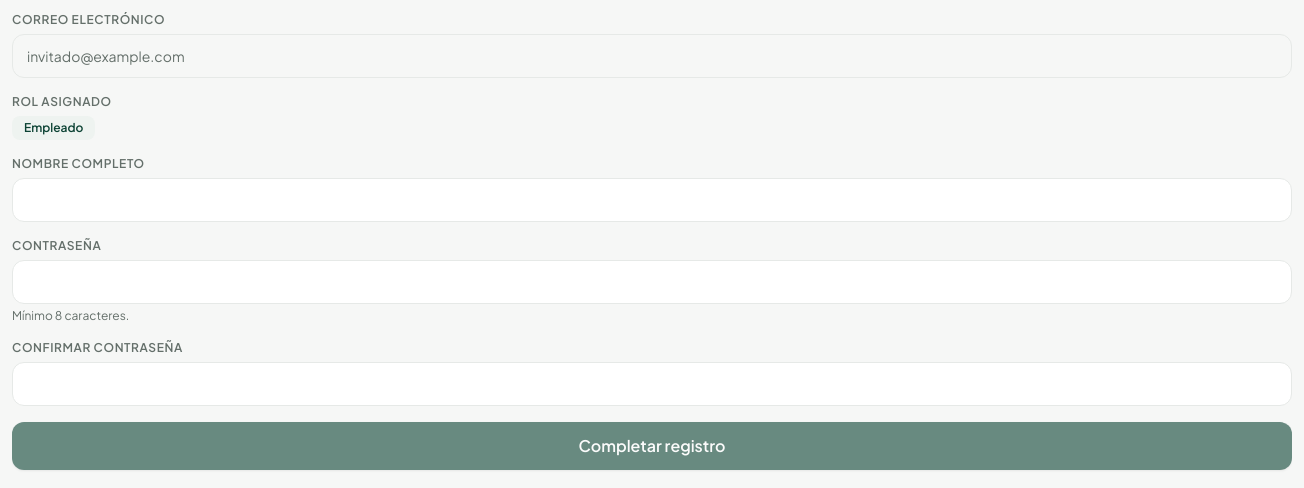
Test case: HU29: M5.2 - RegisterForm › registro exitoso › envía name.trim() a registerSession, limpia contraseñas y redirige a /documentos
The image size is (1304, 488).
Type "   Ada Lovelace   " into the field labelled "Nombre completo" at {"x": 652, "y": 200}, box left=12, top=178, right=1292, bottom=222
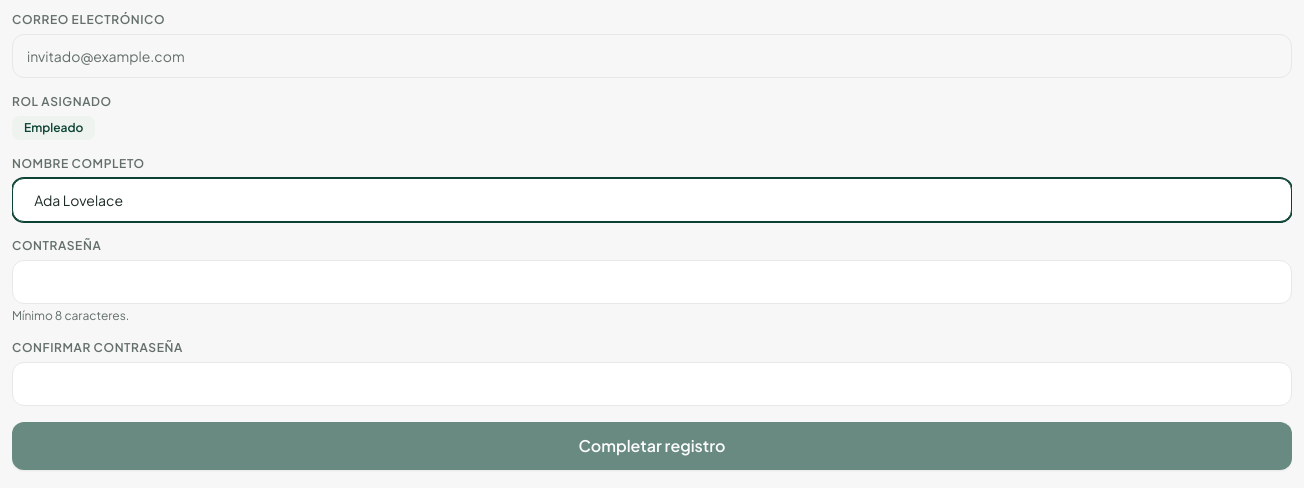
Type "clave-segura-123" into the password field labelled "Contraseña" at {"x": 652, "y": 282}, box left=12, top=260, right=1292, bottom=304
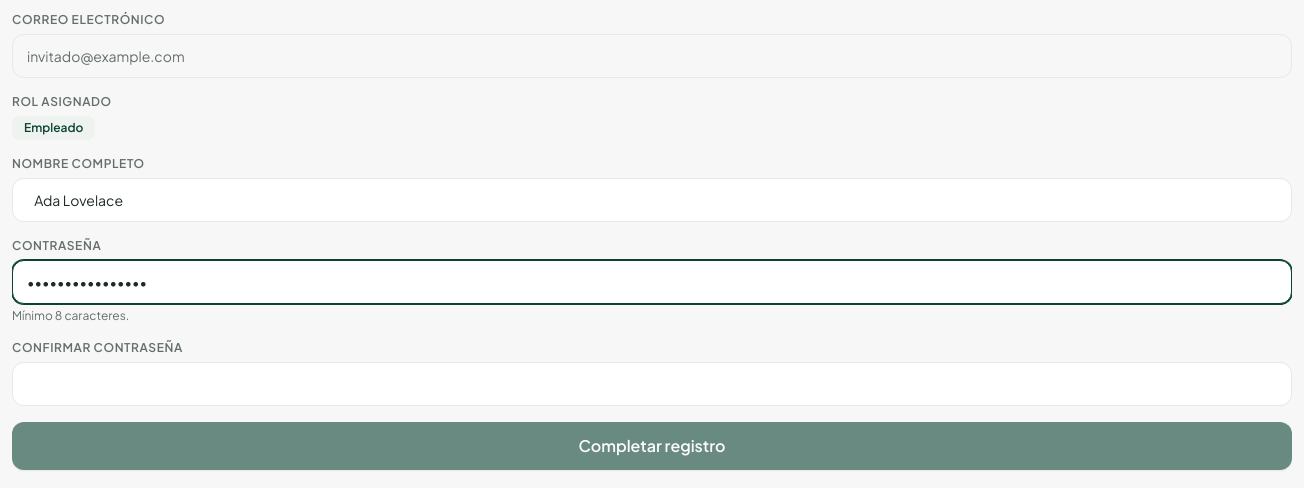
Type "clave-segura-123" into the password field labelled "Confirmar contraseña" at {"x": 652, "y": 384}, box left=12, top=362, right=1292, bottom=406
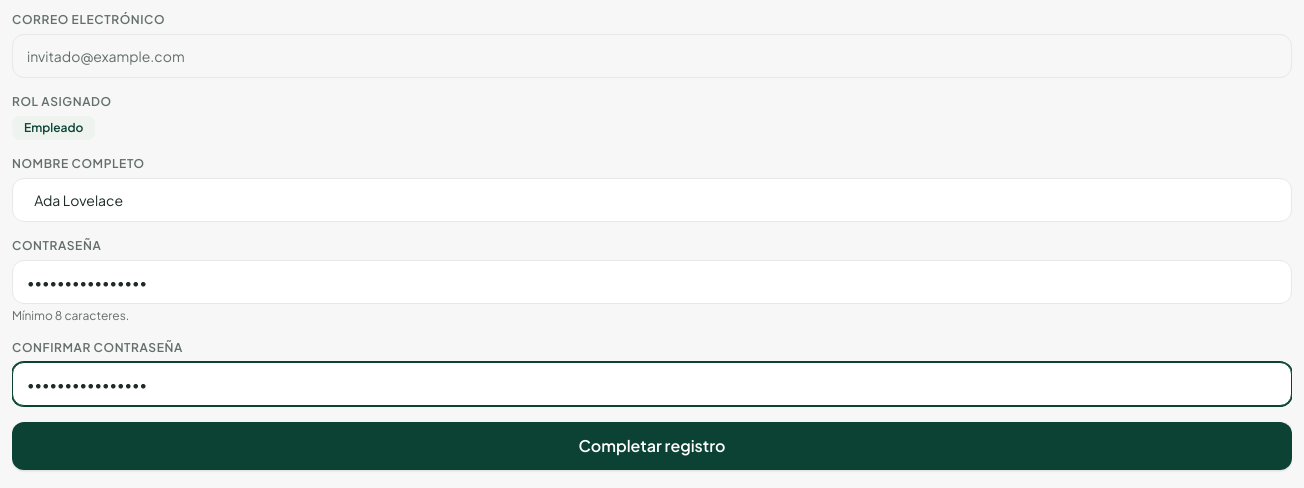
Expected: the button "Completar registro" is enabled
Click the button "Completar registro" at {"x": 652, "y": 446}, box left=12, top=422, right=1292, bottom=470
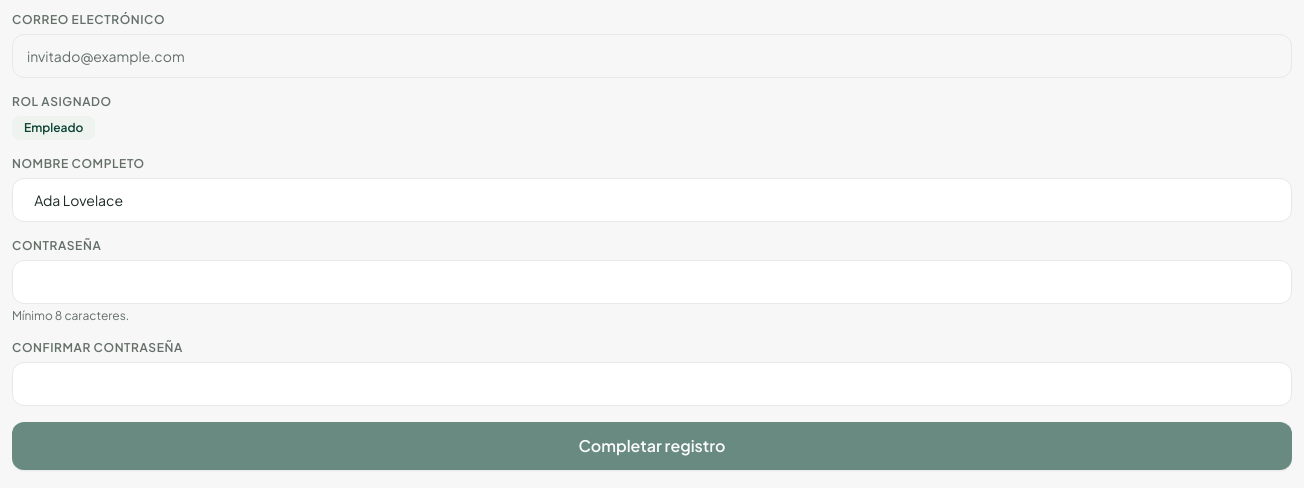
Expected: the password field labelled "Contraseña" is empty, left=12, top=260, right=1292, bottom=304
Expected: the password field labelled "Confirmar contraseña" is empty, left=12, top=362, right=1292, bottom=406
